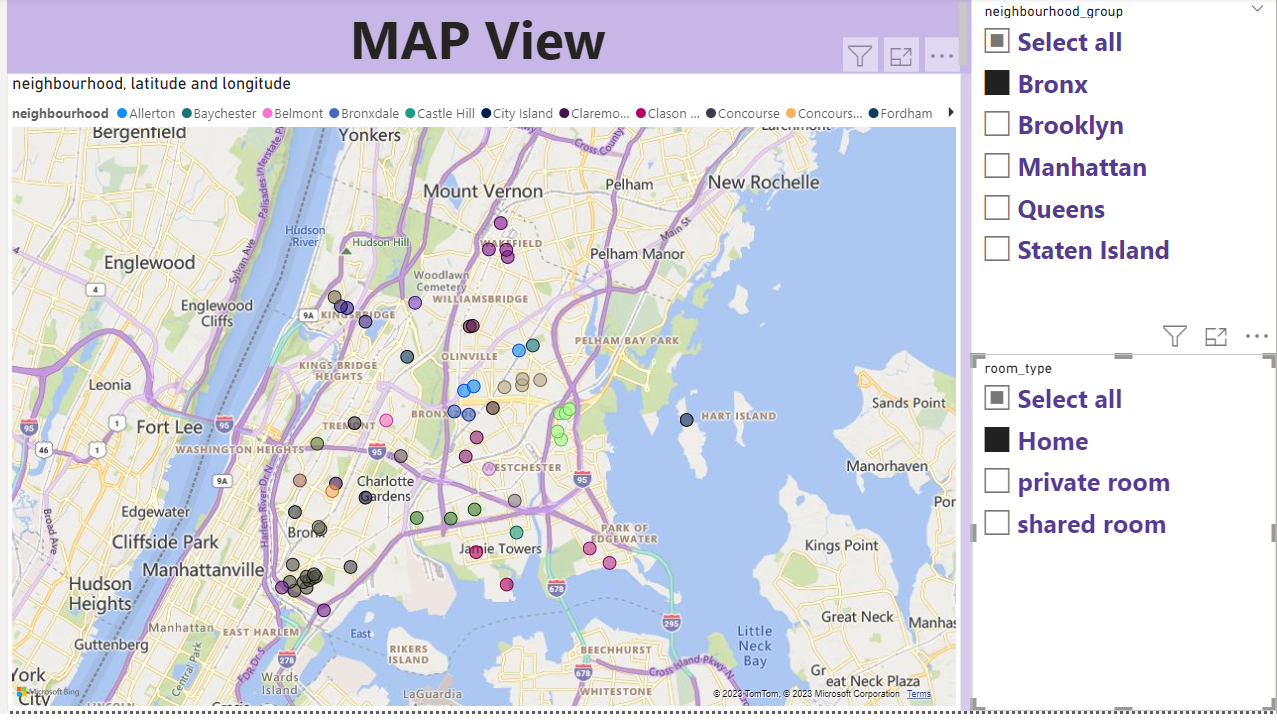

The page's visual inventory and layout, read from the dashboard file:
{"tool":"powerbi","page":{"name":"Map","canvas":[1280,720],"ordinal":2},"visuals":[{"type":"map","fields":{"Y":["airbnb.latitude"],"X":["airbnb.longitude"],"Series":["airbnb.neighbourhood"]},"box":[0,77.2,962.3,643],"z":0},{"type":"slicer","fields":{"Values":["airbnb.neighbourhood_group"]},"box":[972.9,0,307.1,360.1],"z":1000},{"type":"slicer","fields":{"Values":["airbnb.room_type"]},"box":[972.9,360.1,307.1,360.1],"z":2000},{"type":"textbox","box":[0,0,972.9,77.2],"z":3000}]}

Visuals, with their boxes on the page's 1280x720 design canvas (x1, y1, x2, y2). These are canvas units, not pixel positions in the 1277x720 screenshot, which may show the page scaled, cropped or inside an application window:
map - airbnb.latitude x airbnb.longitude: x1=0, y1=77, x2=962, y2=720
slicer - airbnb.neighbourhood_group: x1=973, y1=0, x2=1280, y2=360
slicer - airbnb.room_type: x1=973, y1=360, x2=1280, y2=720
textbox: x1=0, y1=0, x2=973, y2=77
